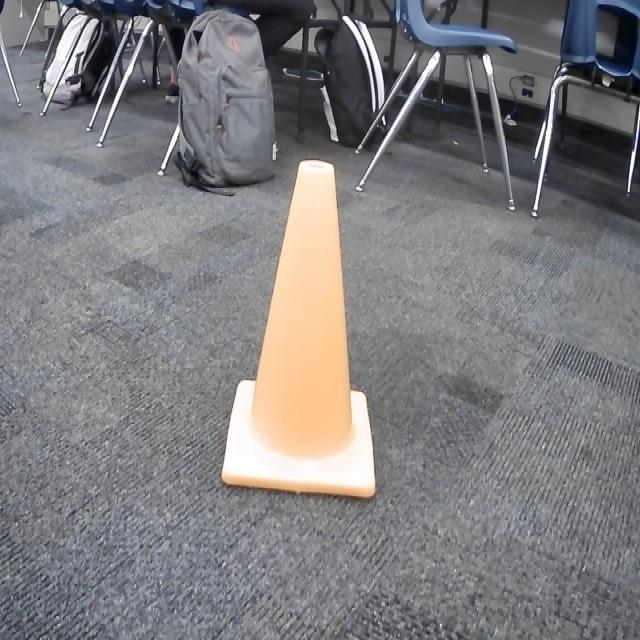cone: (222, 160, 378, 500)
